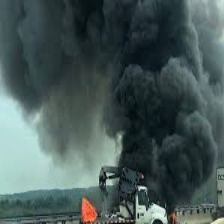smoke: (27, 1, 224, 184)
